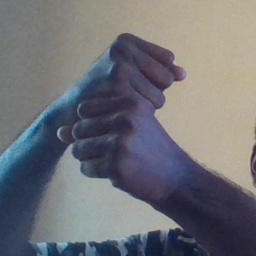G: (54, 31, 190, 181)
